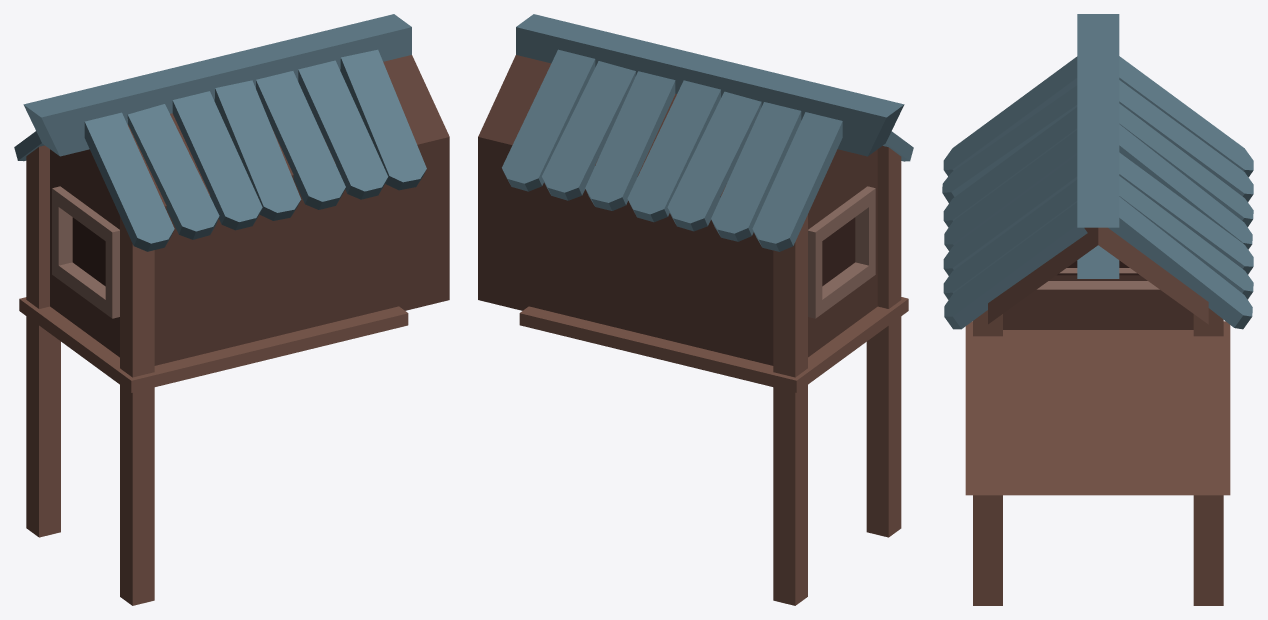
Rendered from Building_Big_Window_001.glb.
3 renders of one model, left to right at view 1: azimuth 30°, elevation 25°; view 2: azimuth 150°, elevation 25°; view 3: azimuth 270°, elevation 25°, orthographic. The views are drawn at different scales.
Parts seen in each view (by area): view 1: Building_Big_Window_001; view 2: Building_Big_Window_001; view 3: Building_Big_Window_001.
Boxes of the visible parts, x1,y1,x2,y2 form: Building_Big_Window_001: (14,14,449,605); Building_Big_Window_001: (478,14,913,605); Building_Big_Window_001: (942,14,1253,605).
Size of the model in its own units: 9.3 by 11.21 by 5.73.
Materials: 1 (1 with a texture image).
